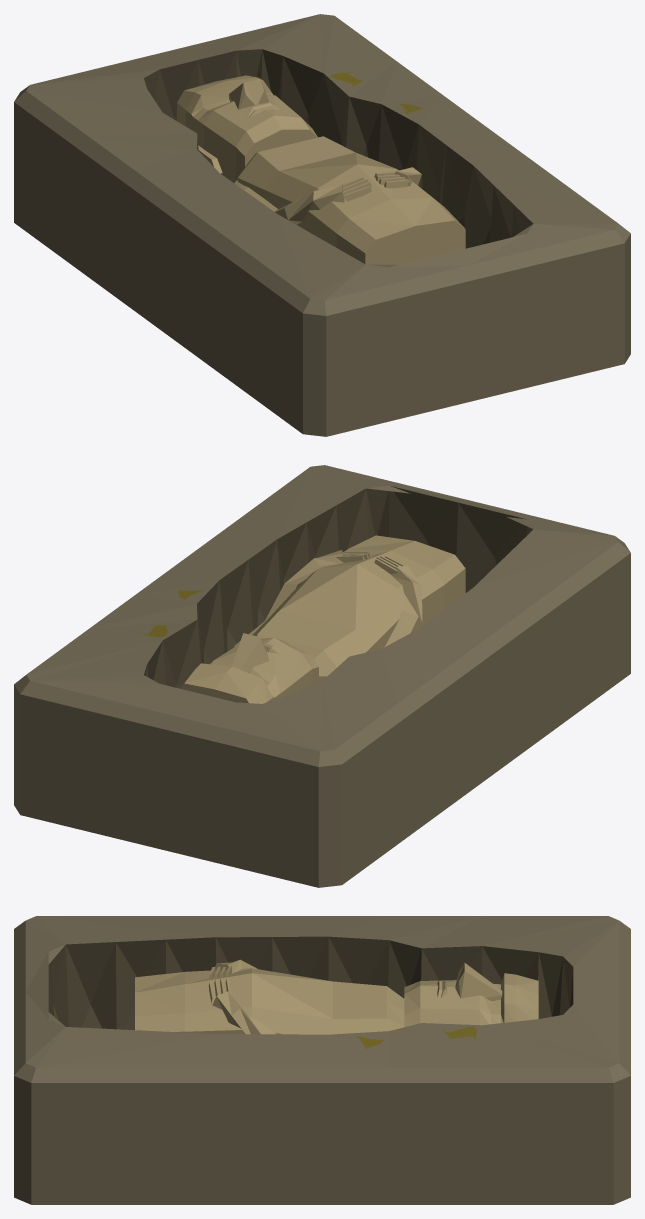
Rendered from unfinished-moai-in-the-40da79.glb.
The picture shows the model from 3 angles, top to bottom: view 1: azimuth 30°, elevation 25°; view 2: azimuth 150°, elevation 25°; view 3: azimuth 270°, elevation 25°; orthographic projection.
Visible parts, largest first — view 1: quarry-bay; view 2: quarry-bay; view 3: quarry-bay.
Part boxes in pixels (x1,y1,x2,y2): quarry-bay: (14,14,630,436); quarry-bay: (14,465,630,887); quarry-bay: (14,916,630,1204).
Bounding box in the file's own units: 6.62 × 3.01 × 10.7.
